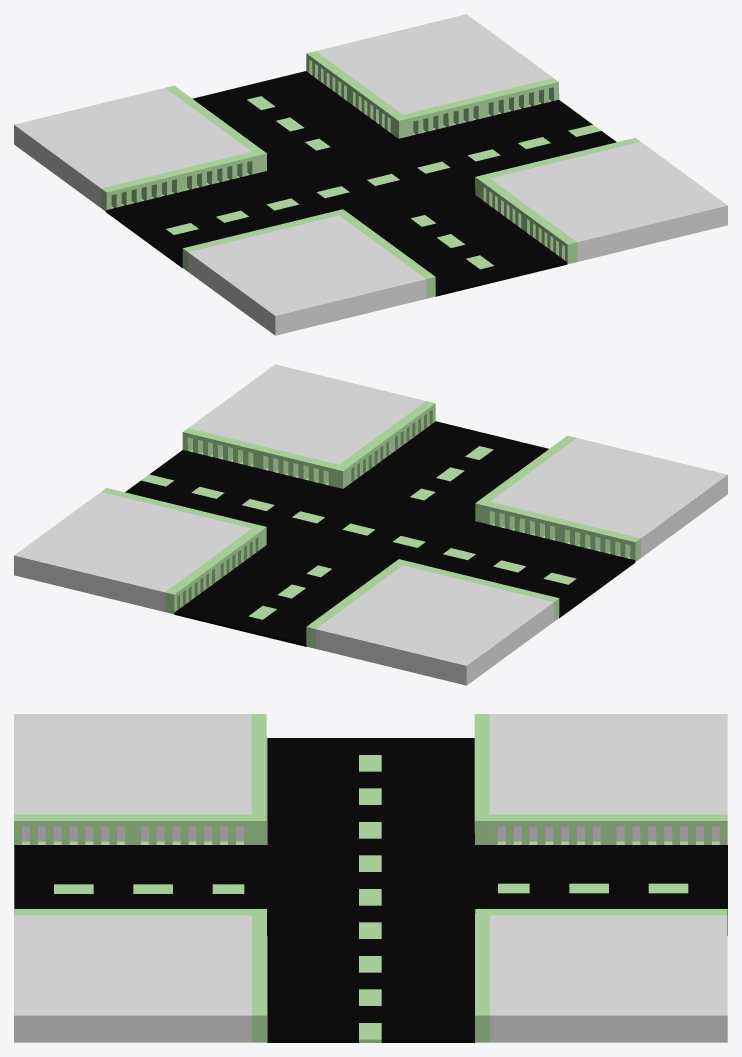
The model's file is Sci-fi_raceTrackJunction_2.fbx.
3 views of the same model, one above another, from view 1: azimuth 30°, elevation 25°; view 2: azimuth 150°, elevation 25°; view 3: azimuth 270°, elevation 25° (orthographic). The views are drawn at different scales.
Visible parts, largest first — view 1: Plane, Wall3Pavement, Wall2Pavement, Wall4Pavement, WallPavement, Wall, Wall4, Wall2, Wall3; view 2: Plane, Wall4Pavement, WallPavement, Wall3Pavement, Wall2Pavement, Wall2, Wall3, Wall, Wall4; view 3: Plane, WallPavement, Wall2Pavement, Wall4Pavement, Wall3Pavement, Wall4, Wall3, Wall, Wall2.
Part boxes in pixels (box(x1,y1,x2,y2)): Plane: box(106, 71, 616, 296); Wall3Pavement: box(188, 215, 426, 335); Wall2Pavement: box(490, 142, 727, 261); Wall4Pavement: box(14, 88, 251, 207); WallPavement: box(316, 14, 552, 114); Wall: box(306, 51, 559, 138); Wall4: box(101, 85, 266, 211); Wall2: box(475, 138, 640, 264); Wall3: box(182, 209, 435, 298); Plane: box(125, 421, 635, 646); Wall4Pavement: box(315, 565, 553, 685); WallPavement: box(14, 492, 251, 611); Wall3Pavement: box(490, 438, 727, 557); Wall2Pavement: box(189, 364, 425, 464); Wall2: box(182, 401, 435, 488); Wall3: box(475, 435, 640, 561); Wall: box(101, 488, 266, 614); Wall4: box(306, 559, 559, 648); Plane: box(14, 738, 727, 1042); WallPavement: box(489, 915, 727, 1042); Wall2Pavement: box(14, 915, 251, 1042); Wall4Pavement: box(489, 714, 727, 841); Wall3Pavement: box(14, 714, 251, 841); Wall4: box(474, 714, 727, 844); Wall3: box(14, 714, 266, 847); Wall: box(475, 909, 727, 1042); Wall2: box(14, 909, 266, 1042).
Size of the model in its own units: 3002 by 127 by 3002.
